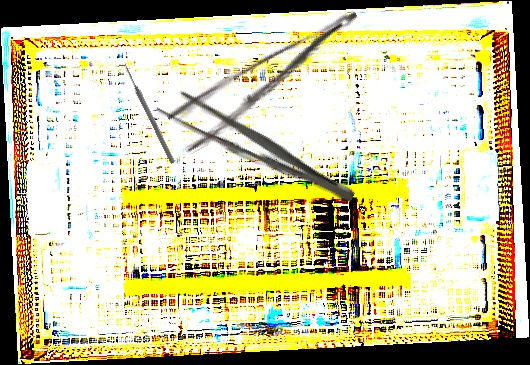Dressing Forceps: (164, 7, 377, 156), (153, 82, 362, 213)
Pusher: (121, 62, 177, 165)
